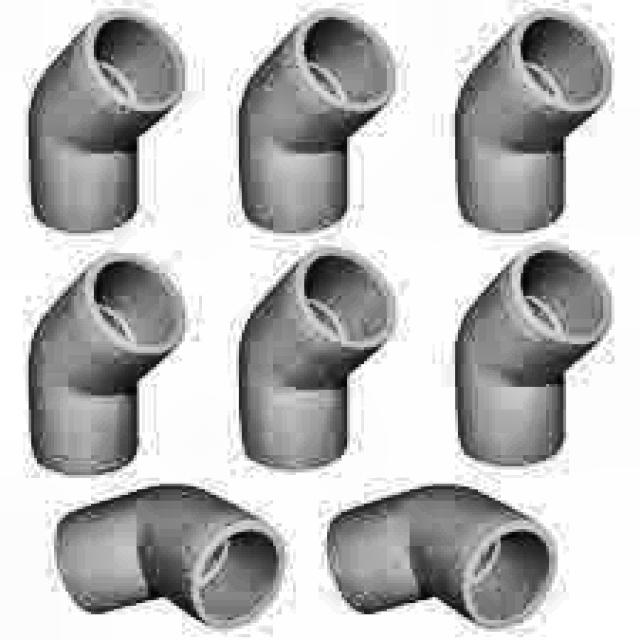ELBOW45: (28, 253, 188, 481), (239, 9, 398, 236), (455, 242, 614, 469), (28, 11, 188, 236), (239, 247, 398, 472), (458, 9, 614, 236), (324, 484, 560, 631), (54, 484, 290, 631)
